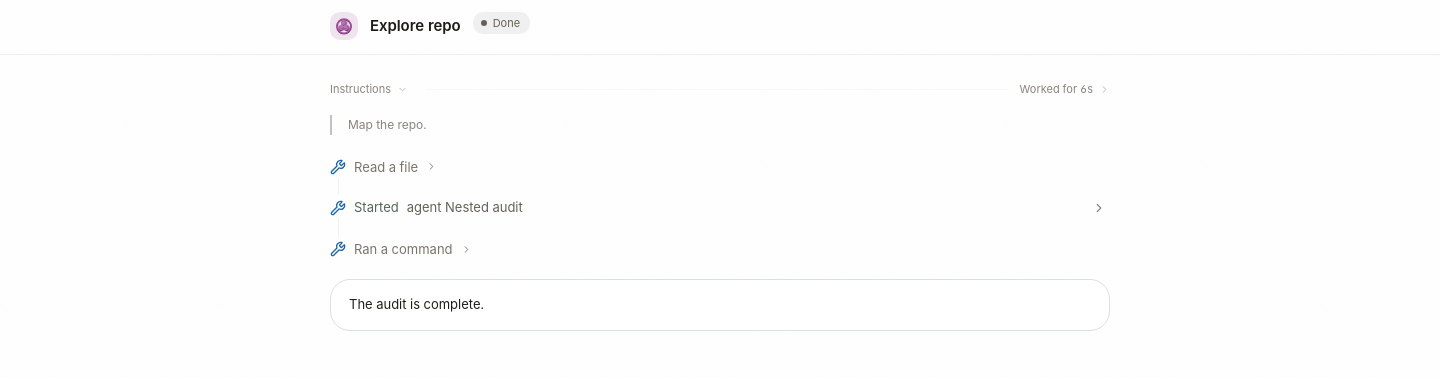
AgentActivity › keeps a Compact nested launch out of the summaries the routine work folds into
The image size is (1440, 388).
Expected: the button "Read README.md" is not shown
Click the button "Read a file". click: coordinates (370, 167)
box: [330,153,1110,181]
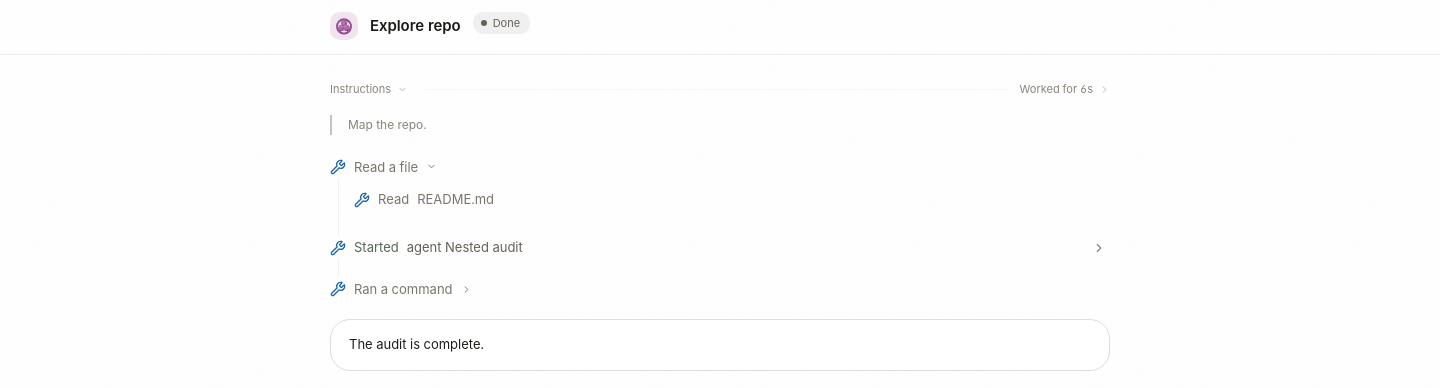
Expected: the button "Read README.md" is shown, [354,185,1110,215]
